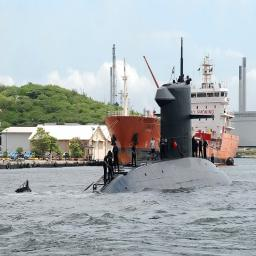submarine: (12, 37, 231, 208)
